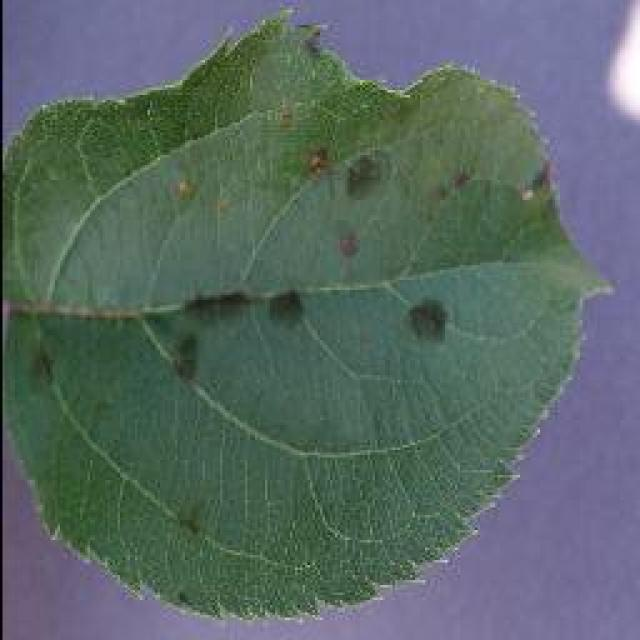apple scab disease: (0, 5, 612, 622)
